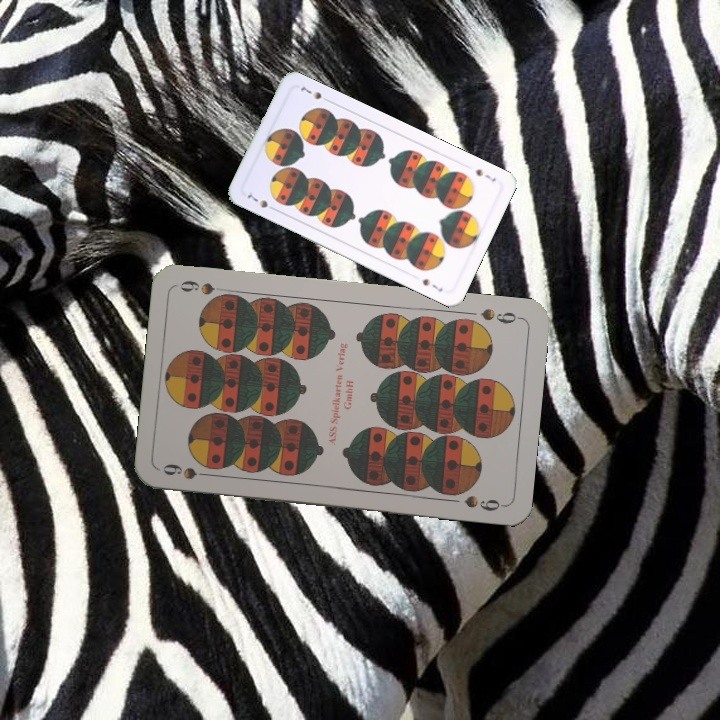S7: (243, 190, 279, 214), (472, 165, 499, 184)
S9: (158, 459, 217, 482), (477, 304, 524, 326)
